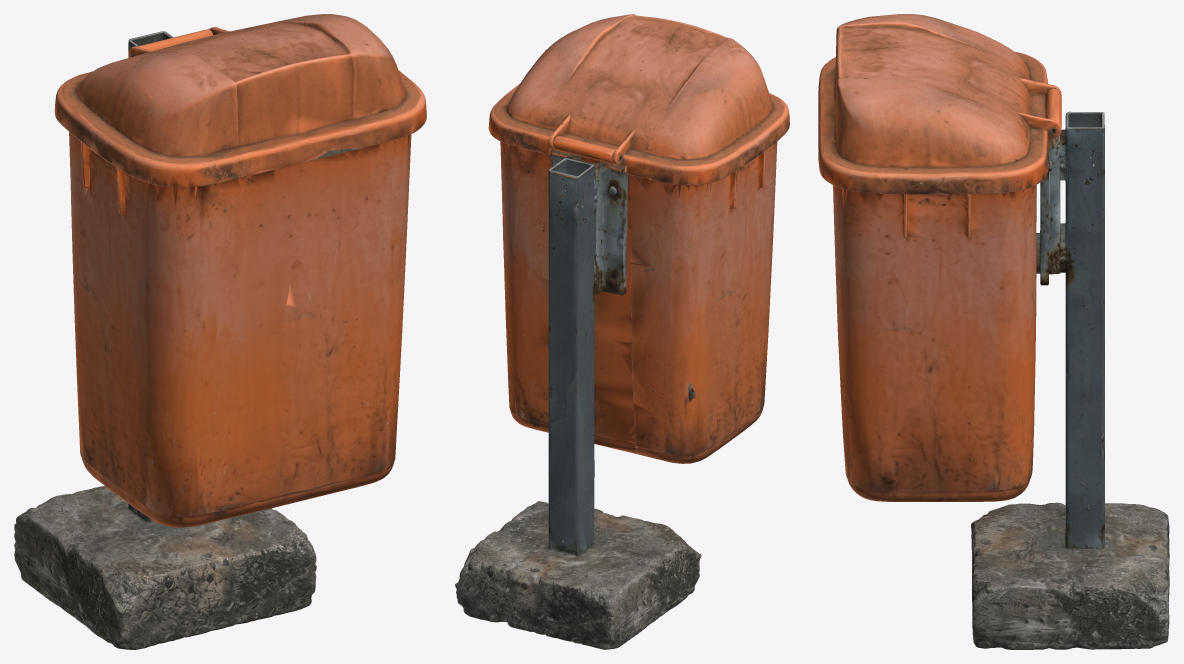
File: papeleira-laranja__01a16c1b.glb
3 views of the same model, side by side, from view 1: azimuth 30°, elevation 25°; view 2: azimuth 150°, elevation 25°; view 3: azimuth 270°, elevation 25° (orthographic). The views are drawn at different scales.
Visible parts, largest first — view 1: papeleira-laranja; view 2: papeleira-laranja; view 3: papeleira-laranja.
Part boxes in pixels (<box>): papeleira-laranja: <box>14,14,426,649</box>; papeleira-laranja: <box>455,14,789,649</box>; papeleira-laranja: <box>818,14,1169,649</box>.
Size of the model in its own units: 0.5698 by 1.15 by 0.6539.
1 material, 1 textured.
